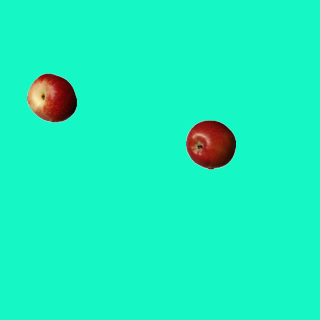Apple Braeburn: (185, 119, 235, 169)
Nectarine: (26, 72, 76, 122)
